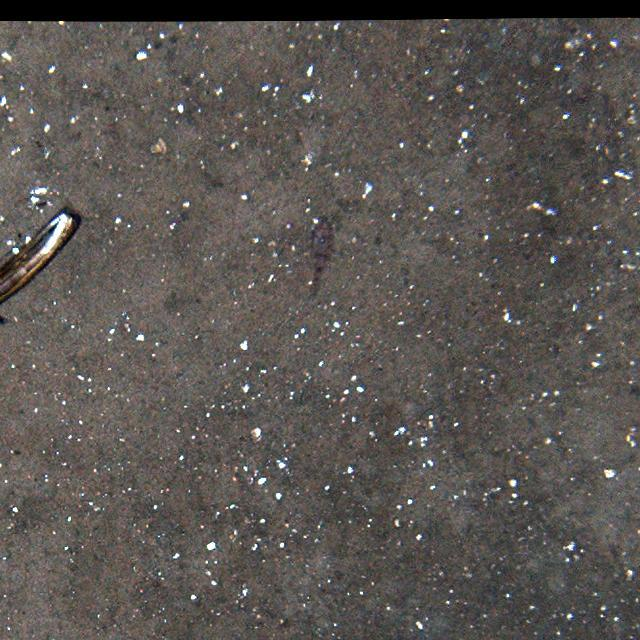roundfish: (305, 210, 333, 298)
